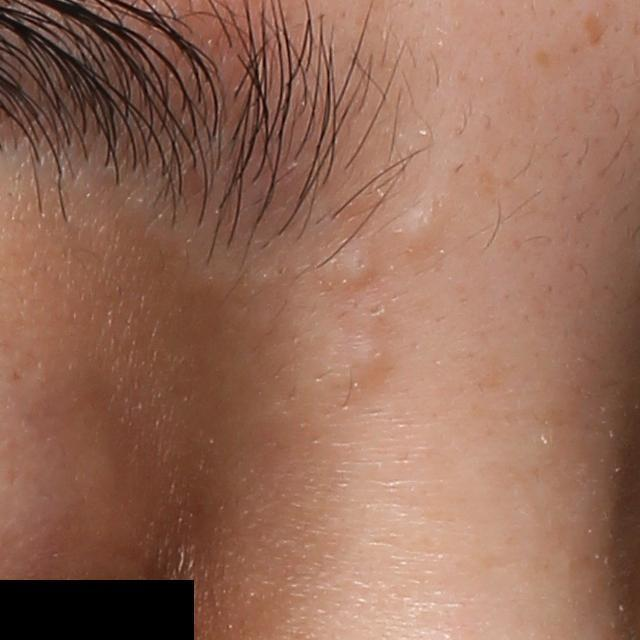comedo: (344, 329, 389, 378), (393, 207, 438, 250), (340, 239, 376, 284)
